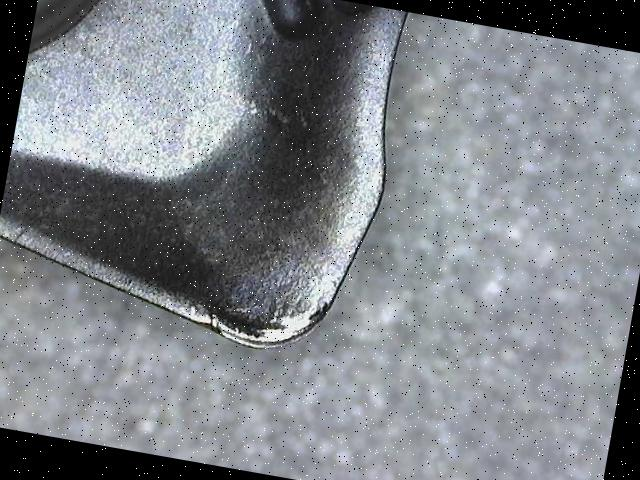normal: (321, 10, 409, 307), (0, 216, 218, 315)
wear: (185, 298, 329, 347)
